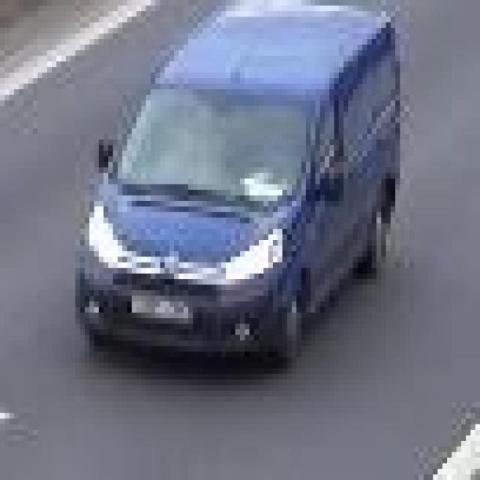van: (76, 5, 400, 363)
